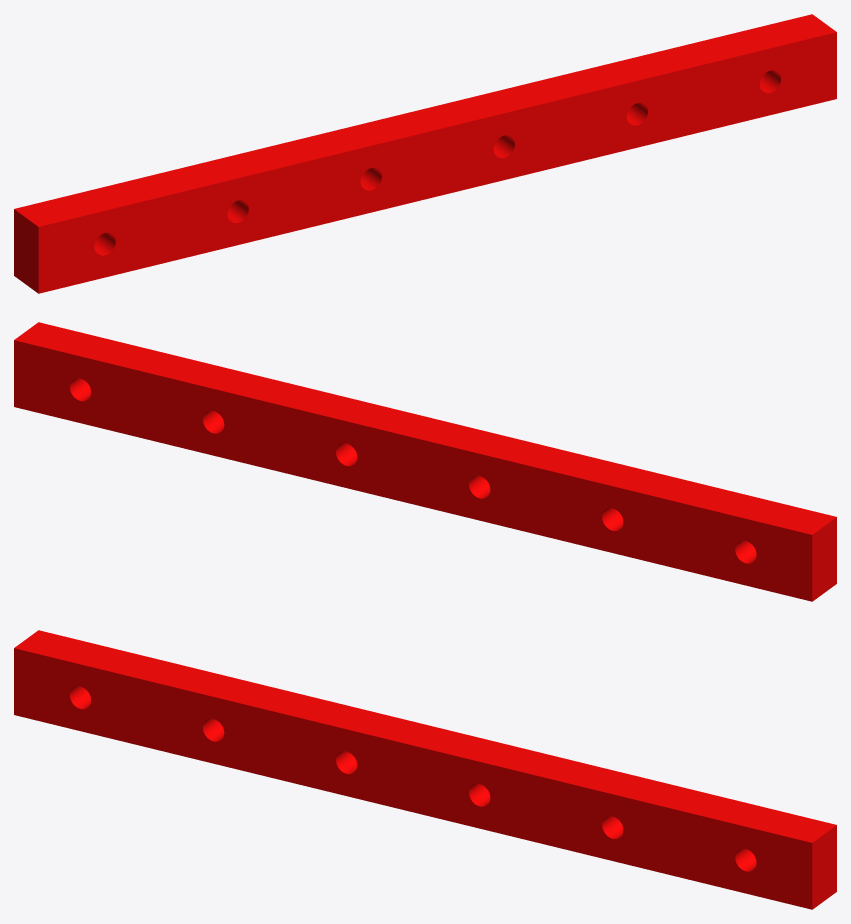
Rendered from left_arm_2_hand_1_slide_rail_1.glb.
3 renders of one model, top to bottom at view 1: azimuth 30°, elevation 25°; view 2: azimuth 150°, elevation 25°; view 3: azimuth 330°, elevation 25°, orthographic.
Parts seen in each view (by area): view 1: left_arm_2_hand_1_slide_rail_1.obj; view 2: left_arm_2_hand_1_slide_rail_1.obj; view 3: left_arm_2_hand_1_slide_rail_1.obj.
Boxes of the visible parts, x1,y1,x2,y2 form: left_arm_2_hand_1_slide_rail_1.obj: (14, 14, 836, 293); left_arm_2_hand_1_slide_rail_1.obj: (14, 322, 836, 601); left_arm_2_hand_1_slide_rail_1.obj: (14, 630, 836, 909).
Bounding box in the file's own units: 0.15 × 0.012 × 0.008.
